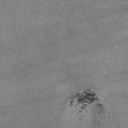iron sheet ash: (73, 88, 101, 110), (96, 104, 104, 108), (70, 100, 74, 106)
